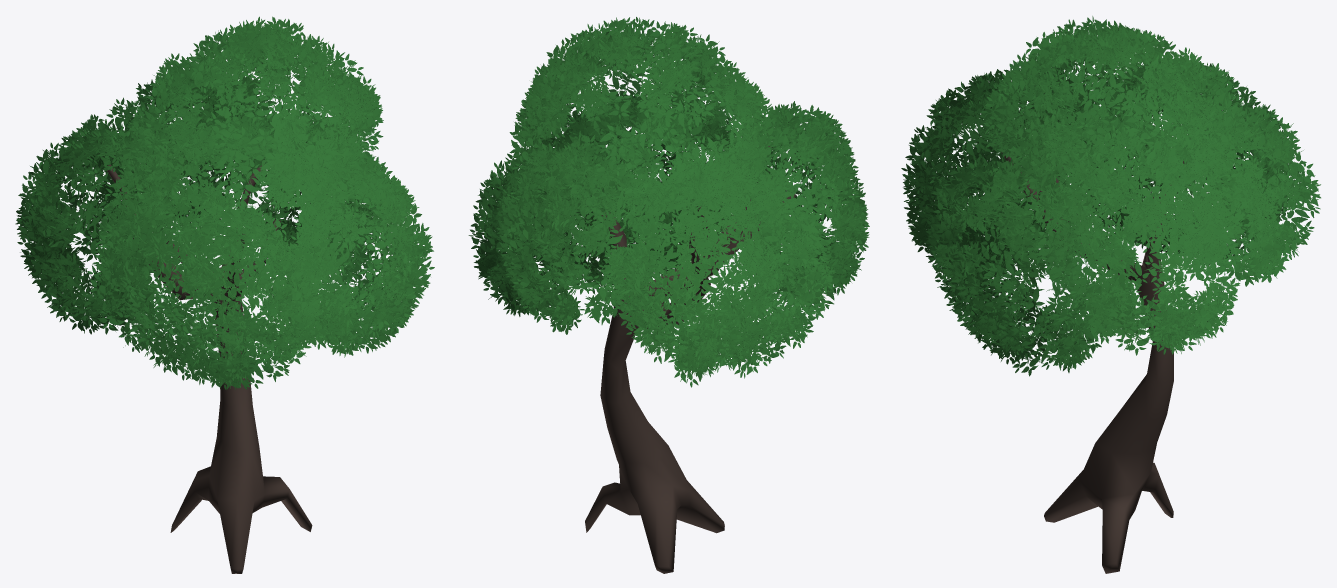
Rendered from Tree5.fbx.
3 renders of one model, left to right at view 1: azimuth 30°, elevation 25°; view 2: azimuth 150°, elevation 25°; view 3: azimuth 270°, elevation 25°, orthographic. The views are drawn at different scales.
Visible parts, largest first — view 1: Leaves.002; view 2: Leaves.002; view 3: Leaves.002.
Part boxes in pixels (x1,y1,x2,y2): Leaves.002: (15, 16, 434, 573); Leaves.002: (468, 17, 869, 573); Leaves.002: (901, 16, 1320, 573).
Size of the model in its own units: 425 by 613 by 444.
Materials: 2 (1 with a texture image).
